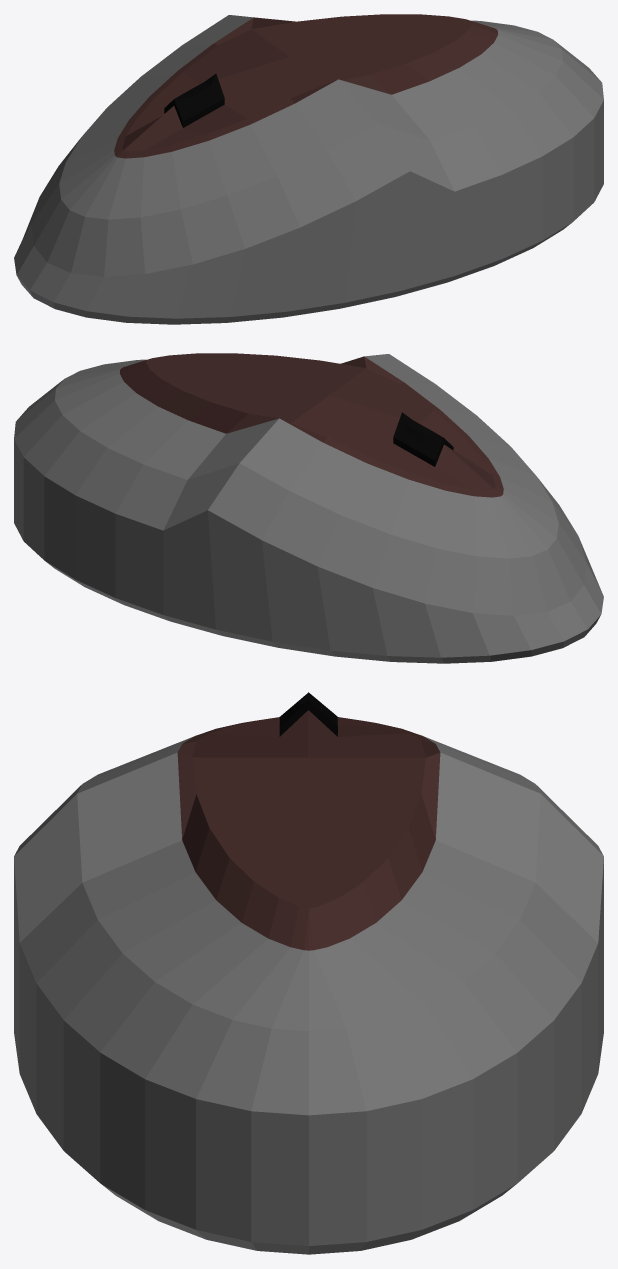
Rendered from Mouse.glb.
3 renders of one model, top to bottom at view 1: azimuth 30°, elevation 25°; view 2: azimuth 150°, elevation 25°; view 3: azimuth 270°, elevation 25°, orthographic. The views are drawn at different scales.
Parts seen in each view (by area): view 1: Cylinder; view 2: Cylinder; view 3: Cylinder.
Part boxes in pixels (x1,y1,x2,y2): Cylinder: (14,14,603,324); Cylinder: (14,353,603,663); Cylinder: (14,692,603,1254).
Size of the model in its own units: 0.4473 by 0.1419 by 0.2634.
